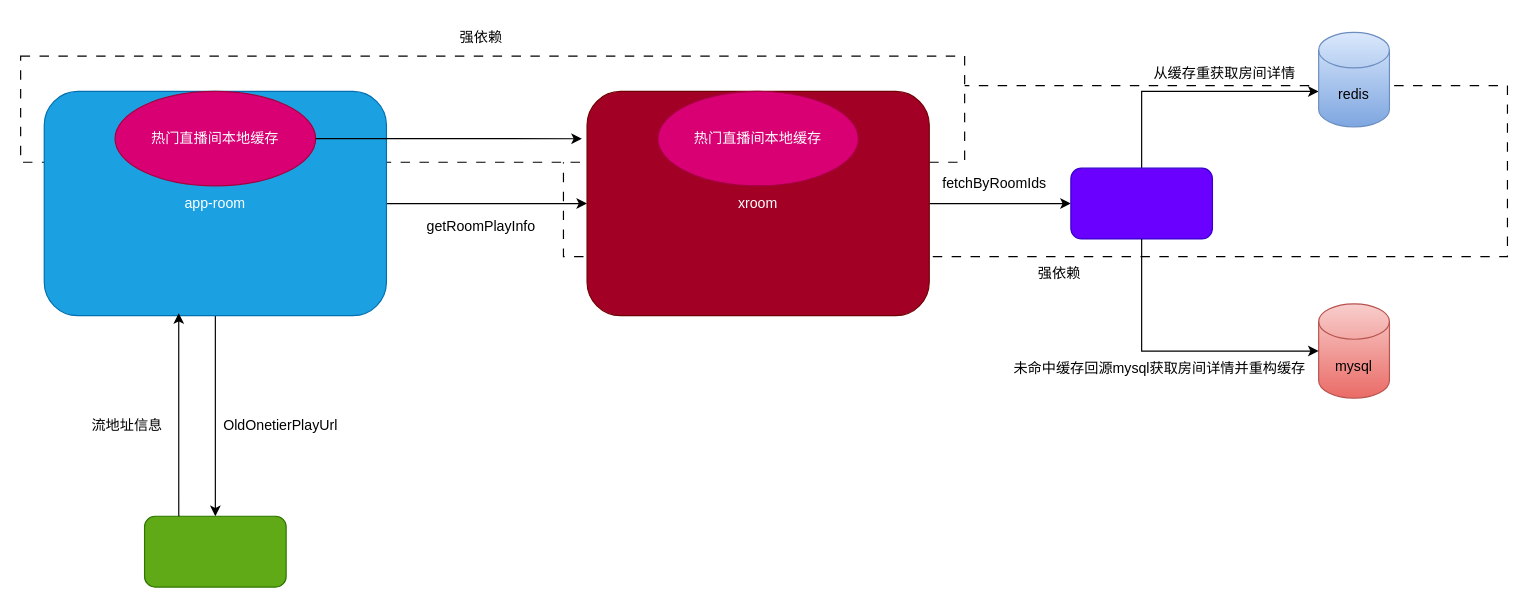
Image size: 1528x608. Some labels were removed from this diagram. Each missing label, with the centre of its shape:
dao-anchor: (x=1141, y=203)
getMultiple: (x=492, y=108)
playurl: (x=214, y=551)
